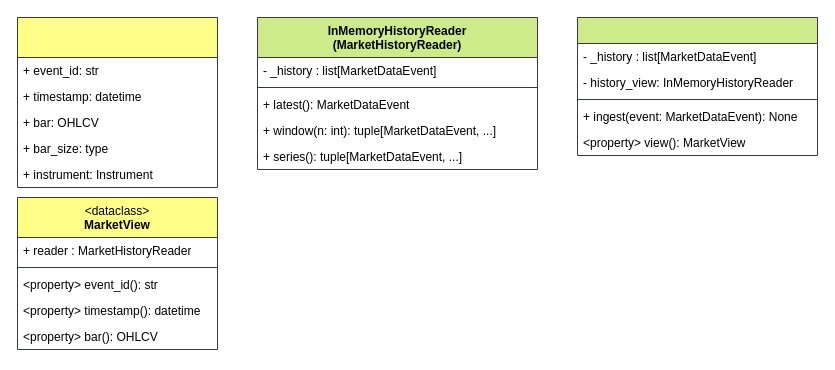
The diagram is 835 pixels wide and 370 high, and some of its shapes have lost their labels. The box of each missing label's shape, as (x1, y1, x2, y2) in pixels:
<dataclass> MarketDataEvent: (16, 16, 218, 188)
MarketStore: (576, 16, 818, 156)
